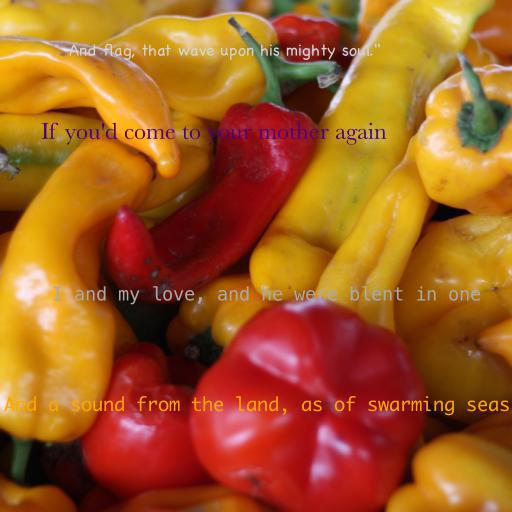Baskerville: (41, 122, 387, 145)
Chalkboard: (69, 43, 381, 61)
Menlo: (51, 286, 481, 305)
Monaco: (4, 396, 510, 416)
